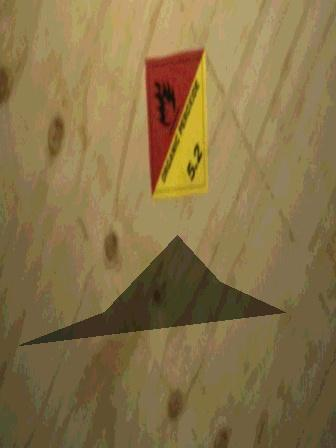organic-peroxide: (142, 42, 210, 204)
